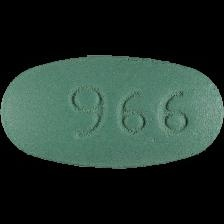0093-7366: (0, 0, 224, 224)
